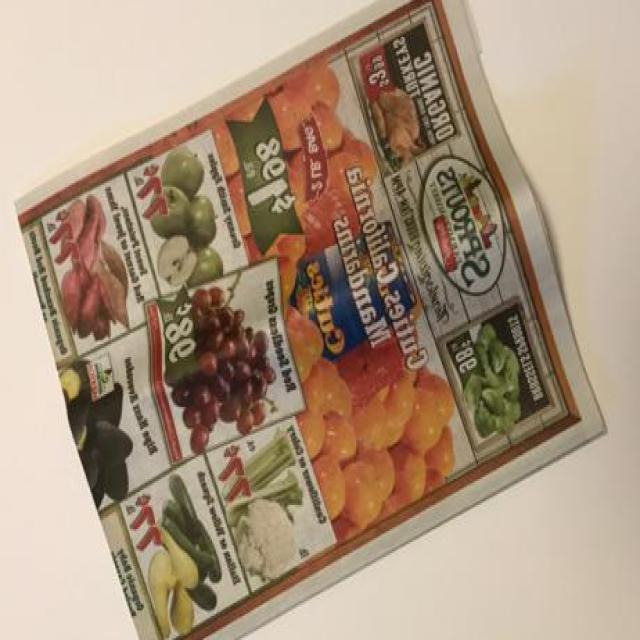kertas: (9, 0, 604, 640)
